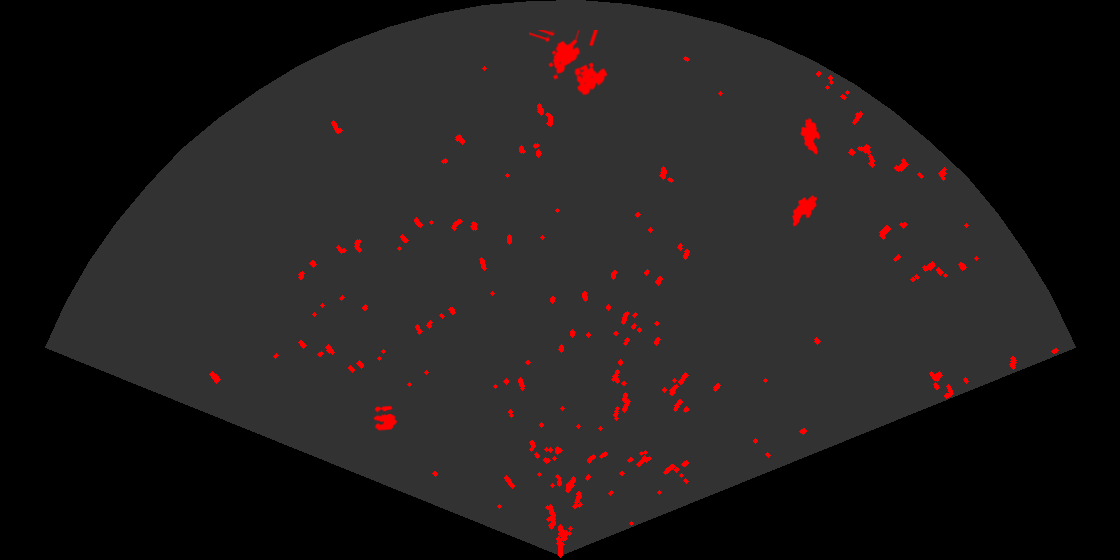AUV: (791, 194, 819, 228), (799, 116, 822, 157)
ball: (372, 404, 398, 432)
cage: (529, 30, 609, 97)
